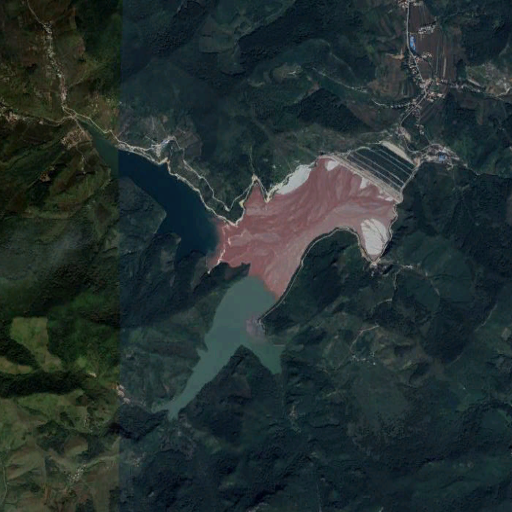tp: (67, 87, 418, 419)
